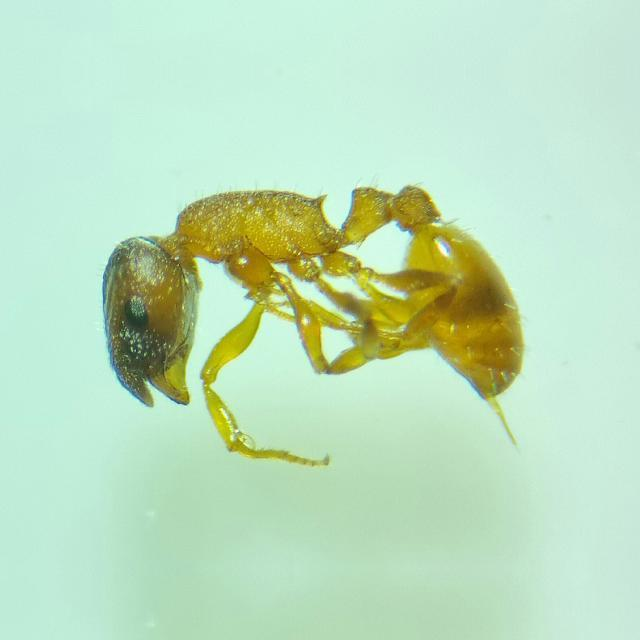Temnothorax: (49, 140, 559, 488)
